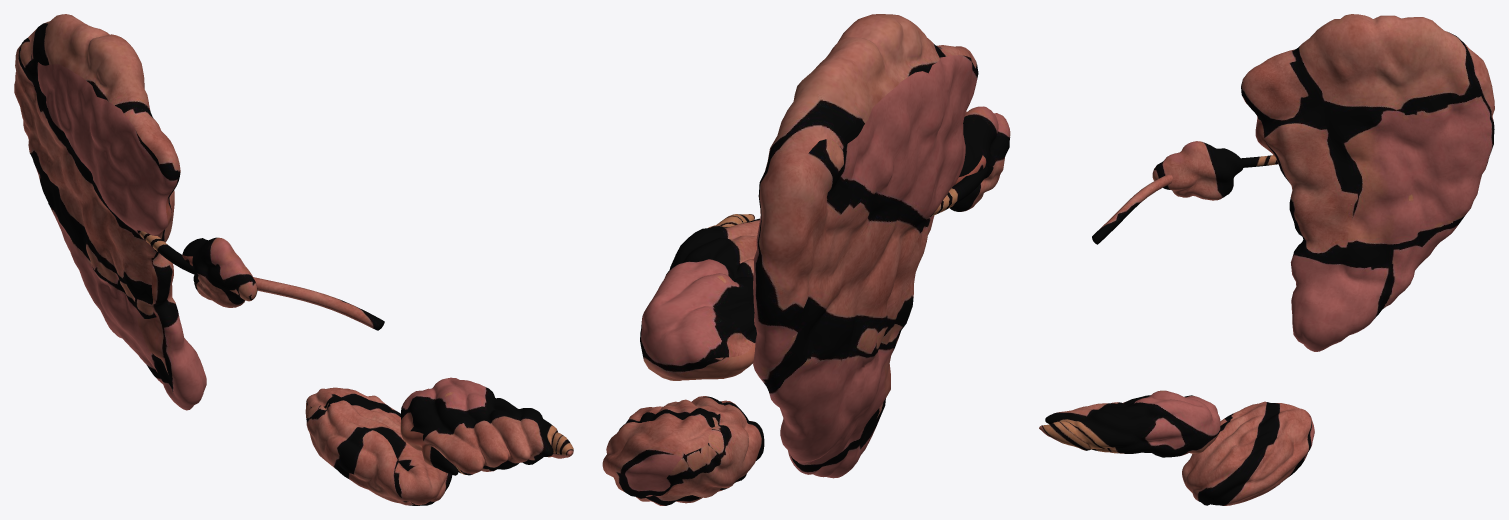
File: Endocrine.Salivary_glands.Parotid_R.obj
The picture shows the model from 3 angles, left to right: view 1: azimuth 30°, elevation 25°; view 2: azimuth 150°, elevation 25°; view 3: azimuth 270°, elevation 25°; orthographic projection. The views are drawn at different scales.
Parts seen in each view (by area): view 1: Endocrine:Salivary_glands:Parotid_R_Salivary_glands.002; view 2: Endocrine:Salivary_glands:Parotid_R_Salivary_glands.002; view 3: Endocrine:Salivary_glands:Parotid_R_Salivary_glands.002.
Boxes of the visible parts, <box> form: Endocrine:Salivary_glands:Parotid_R_Salivary_glands.002: <box>14,14,573,505</box>; Endocrine:Salivary_glands:Parotid_R_Salivary_glands.002: <box>602,14,1010,505</box>; Endocrine:Salivary_glands:Parotid_R_Salivary_glands.002: <box>1039,14,1494,505</box>.
Size of the model in its own units: 0.3586 by 0.485 by 0.5114.
